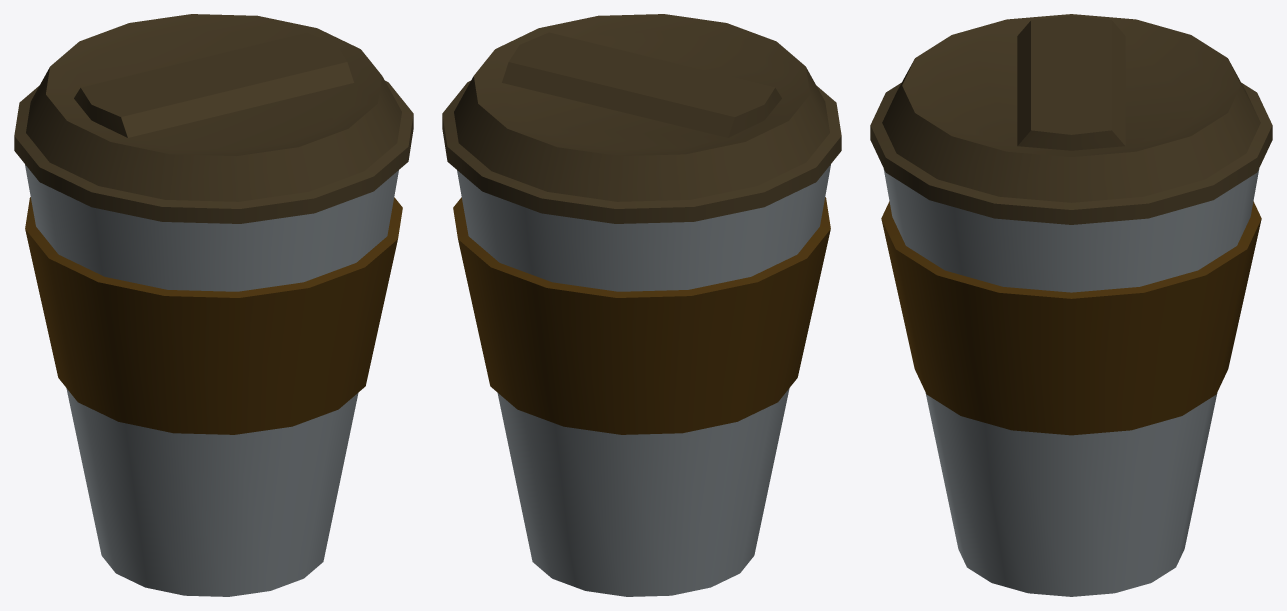
The model's file is Vaso_Carton_01.001.fbx.
3 views of the same model, side by side, from view 1: azimuth 30°, elevation 25°; view 2: azimuth 150°, elevation 25°; view 3: azimuth 270°, elevation 25° (orthographic).
Visible parts, largest first — view 1: Vaso_Carton_01.001; view 2: Vaso_Carton_01.001; view 3: Vaso_Carton_01.001.
Boxes of the visible parts, box(x1,y1,x2,y2) form: Vaso_Carton_01.001: box(14, 14, 413, 596); Vaso_Carton_01.001: box(442, 14, 841, 596); Vaso_Carton_01.001: box(870, 14, 1272, 596).
Size of the model in its own units: 40.05 by 52.08 by 40.05.
